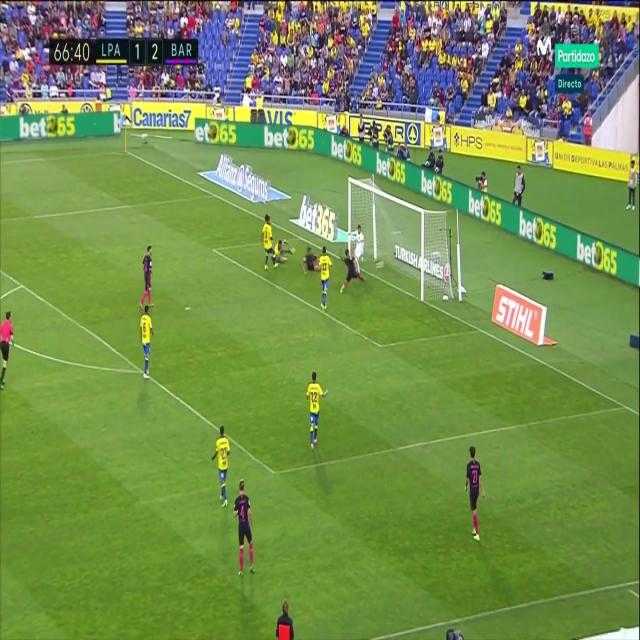Goalkeeper: (346, 224, 367, 264)
Player: (461, 442, 487, 547), (233, 475, 256, 580), (306, 368, 330, 451), (209, 424, 232, 508), (138, 304, 155, 381), (337, 250, 366, 294), (138, 242, 155, 312), (259, 212, 279, 270), (318, 244, 332, 313), (273, 238, 297, 268), (302, 246, 320, 278)
Referee: (0, 308, 15, 391)
